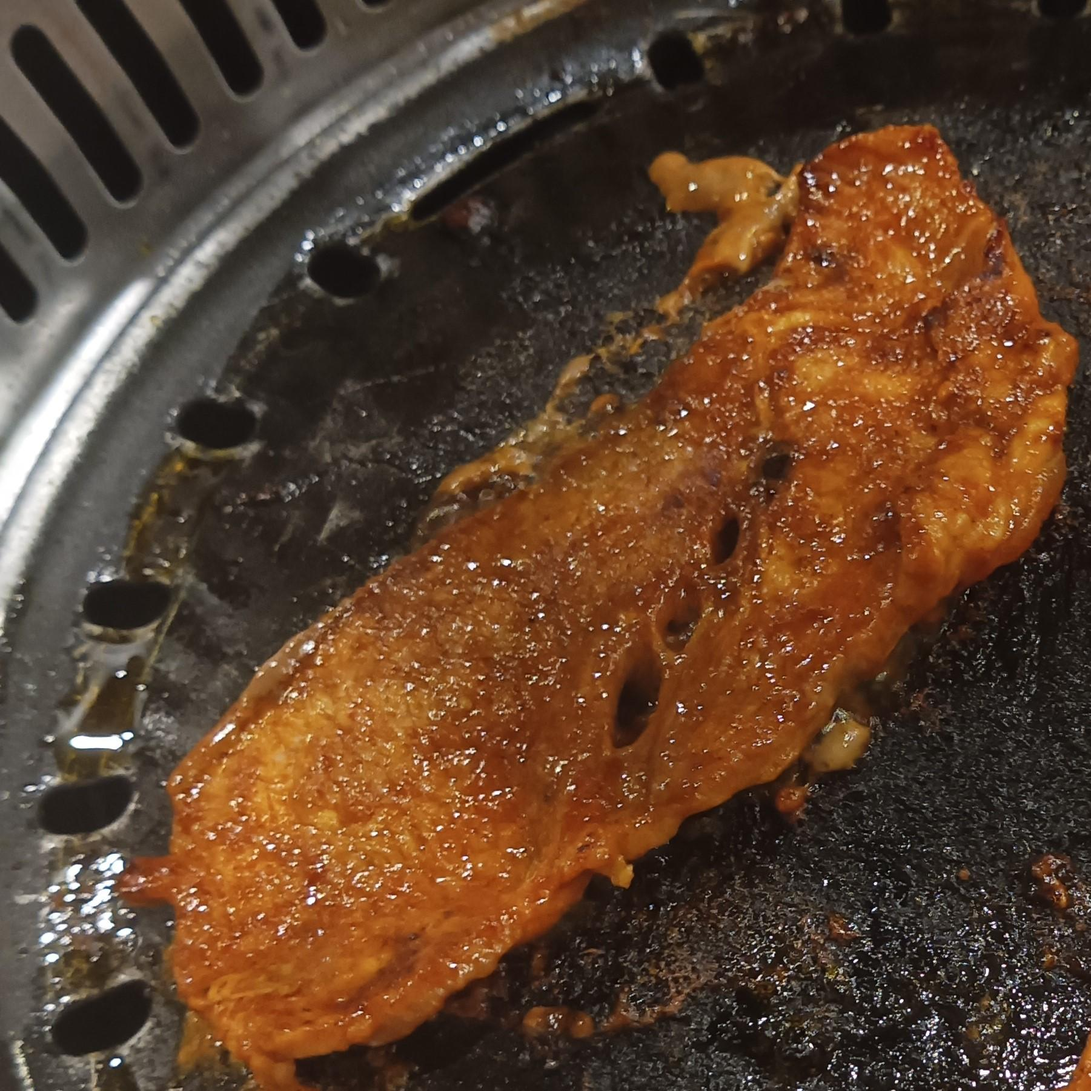Well-Cooked: (121, 126, 1077, 1090)
